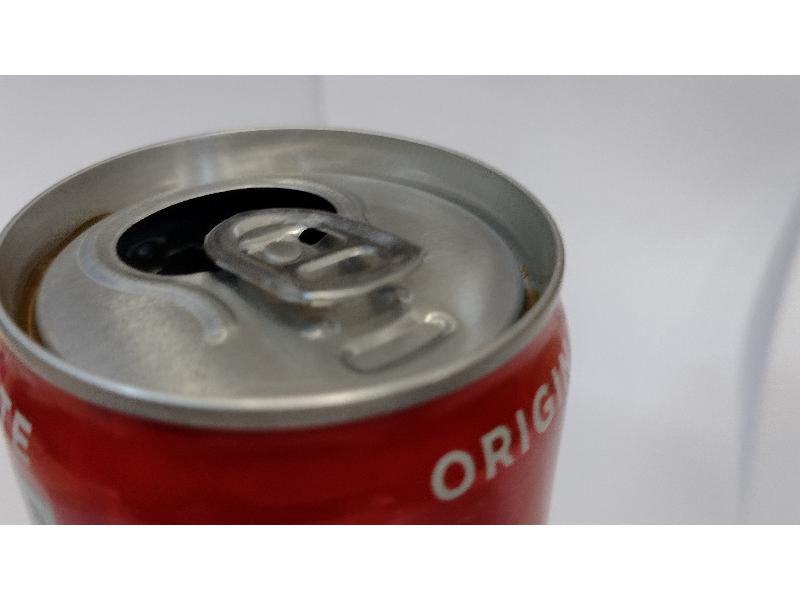can: (0, 116, 589, 523)
